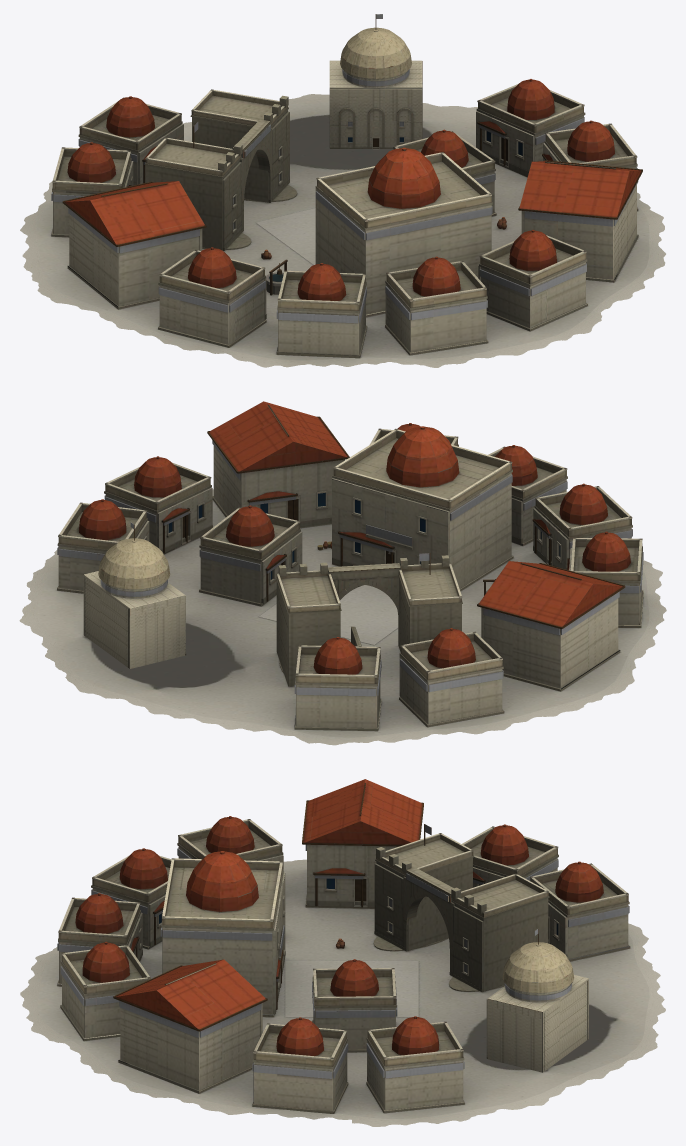
Rendered from gunpowder-town-medium-b-israelite-53ddcfaf.glb.
The picture shows the model from 3 angles, top to bottom: view 1: azimuth 30°, elevation 25°; view 2: azimuth 150°, elevation 25°; view 3: azimuth 270°, elevation 25°; orthographic projection.
Visible parts, largest first — view 1: LOD0; view 2: LOD0; view 3: LOD0.
Part boxes in pixels (<box>): LOD0: <box>20,14,665,367</box>; LOD0: <box>19,401,666,745</box>; LOD0: <box>20,779,665,1126</box>.
Size of what is drawn, in the model's own units: 6.05 by 1.36 by 5.93.
3 materials, 3 textured.
